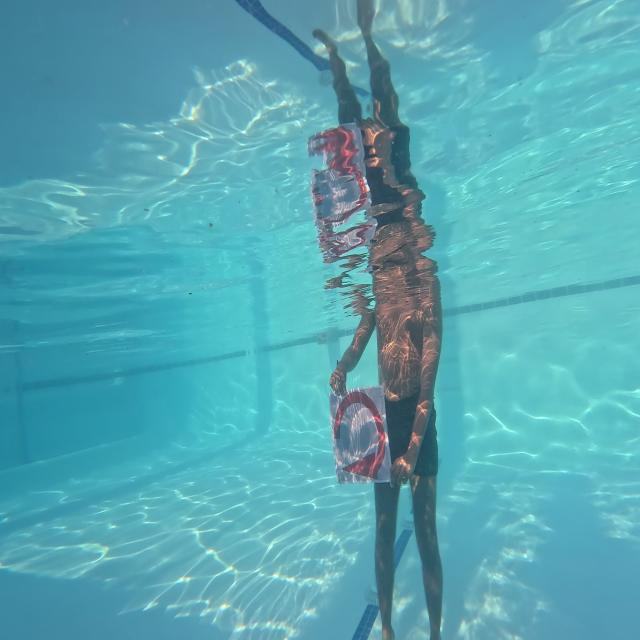red_side: (327, 378, 394, 498)
